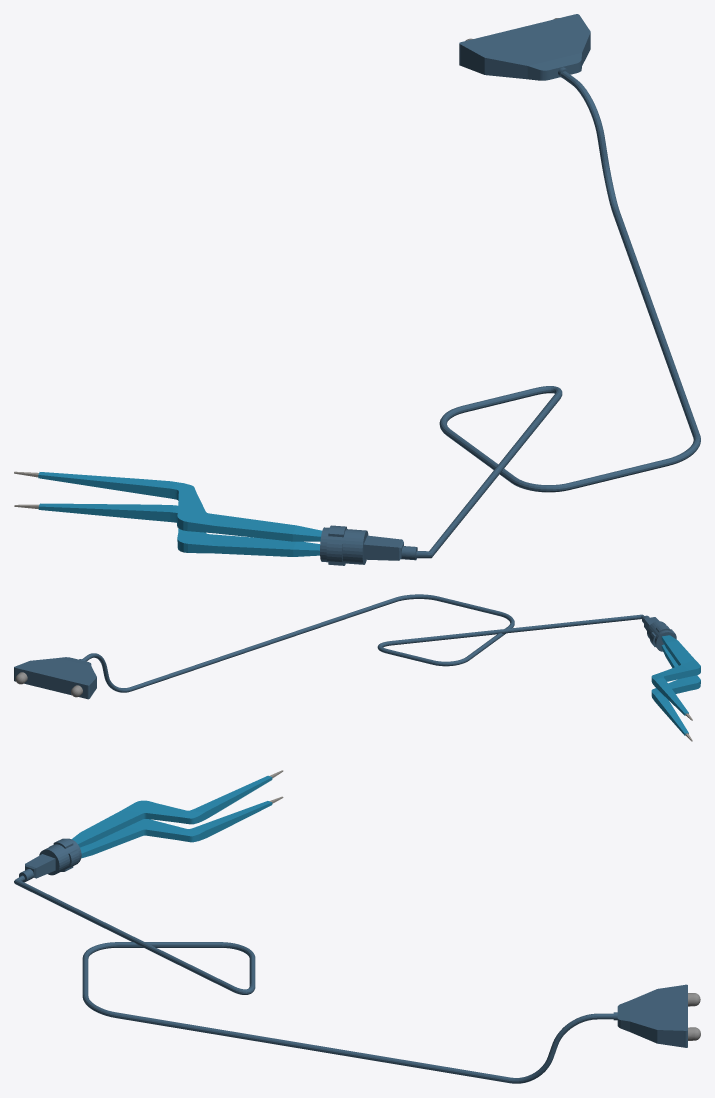
Rendered from EABipolarMom2.gltf.
The picture shows the model from 3 angles, top to bottom: view 1: azimuth 30°, elevation 25°; view 2: azimuth 150°, elevation 25°; view 3: azimuth 270°, elevation 25°; orthographic projection. The views are drawn at different scales.
Visible parts, largest first — view 1: Cube.065, Plane.013, Sphere; view 2: Plane.013, Cube.065, Sphere; view 3: Cube.065, Plane.013, Sphere.
Part boxes in pixels (box(x1,y1,x2,y2)): Cube.065: box(14, 471, 403, 565); Plane.013: box(416, 71, 700, 558); Sphere: box(459, 14, 590, 80); Plane.013: box(82, 594, 644, 692); Cube.065: box(644, 617, 700, 741); Sphere: box(14, 657, 96, 699); Cube.065: box(25, 770, 283, 878); Plane.013: box(14, 875, 613, 1083); Sphere: box(613, 984, 700, 1047).
Size of the model in its own units: 97.03 by 12 by 88.97.
